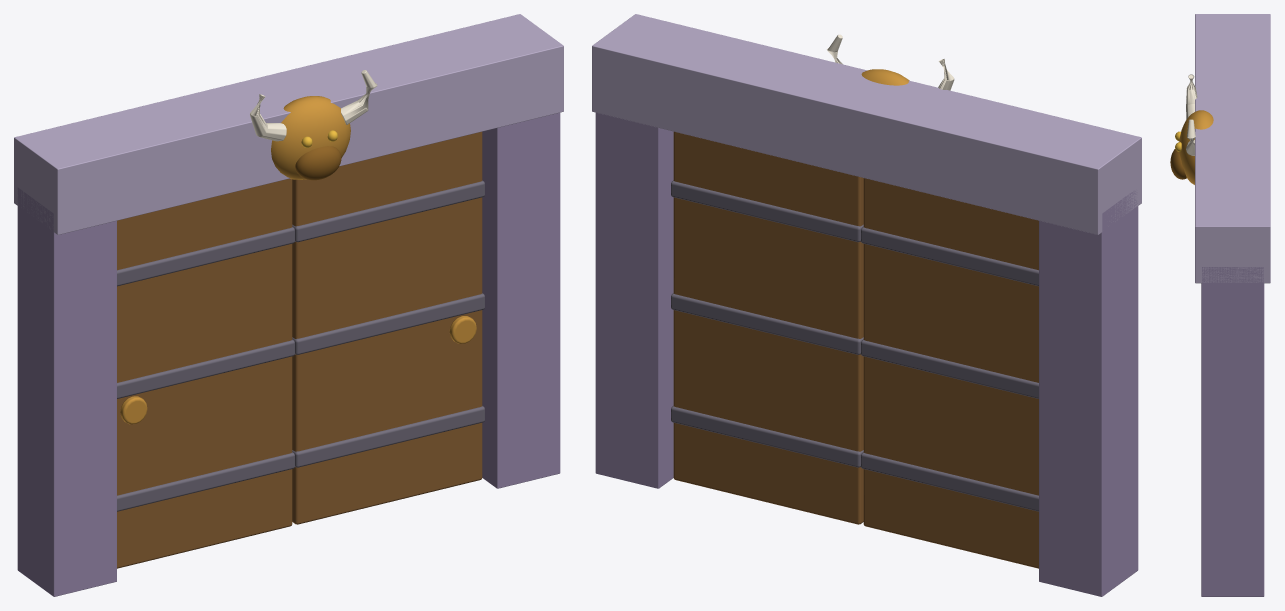
Rendered from portao_minotauro.glb.
3 views of the same model, side by side, from view 1: azimuth 30°, elevation 25°; view 2: azimuth 150°, elevation 25°; view 3: azimuth 270°, elevation 25° (orthographic). The views are drawn at different scales.
Parts seen in each view (by area): view 1: Moldura, FolhaDirMalha, FolhaEsqMalha; view 2: Moldura, FolhaDirMalha, FolhaEsqMalha; view 3: Moldura.
Boxes of the visible parts, box(x1,y1,x2,y2) form: Moldura: box(14, 14, 563, 596); FolhaDirMalha: box(292, 131, 484, 524); FolhaEsqMalha: box(117, 178, 294, 568); Moldura: box(592, 14, 1141, 596); FolhaDirMalha: box(671, 131, 863, 524); FolhaEsqMalha: box(861, 178, 1038, 568); Moldura: box(1170, 14, 1270, 596).
Size of the model in its own units: 4 by 3.46 by 0.796.
